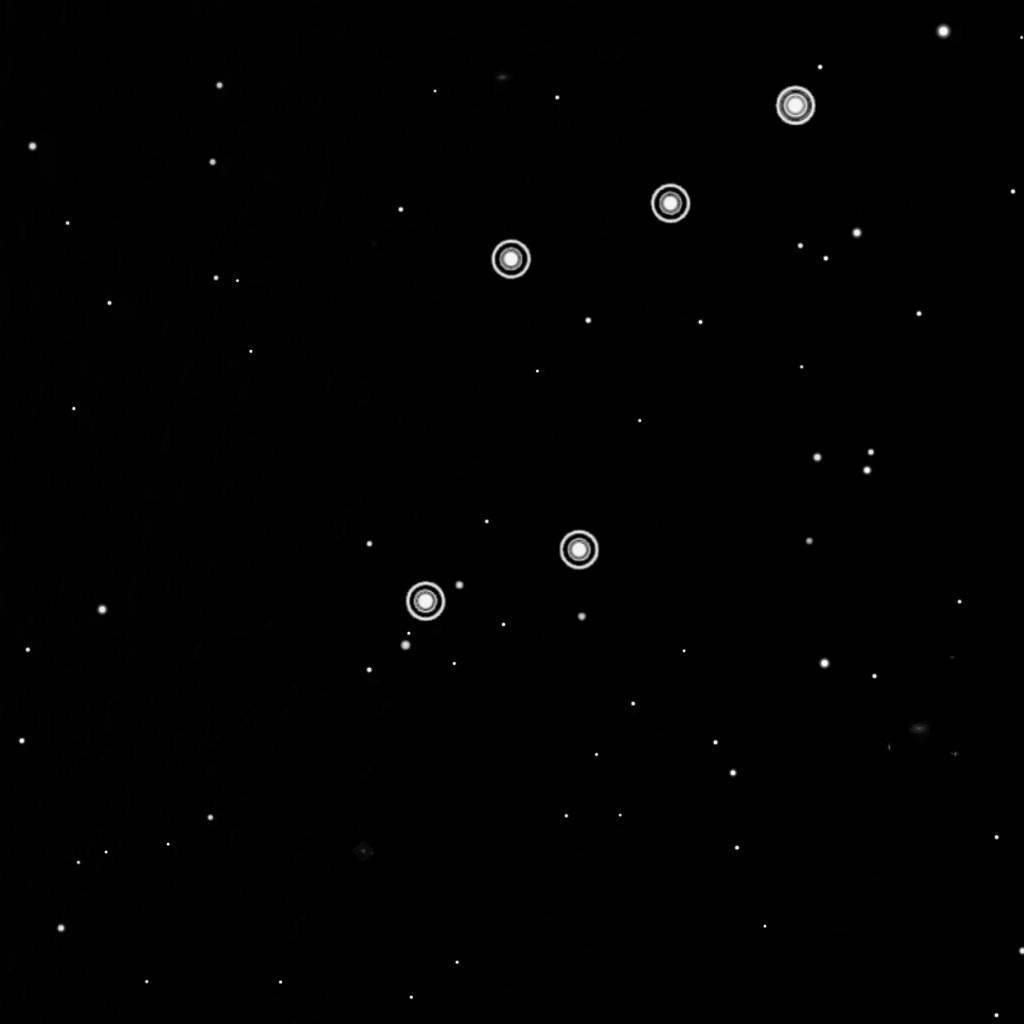lyra: (394, 73, 823, 628)
